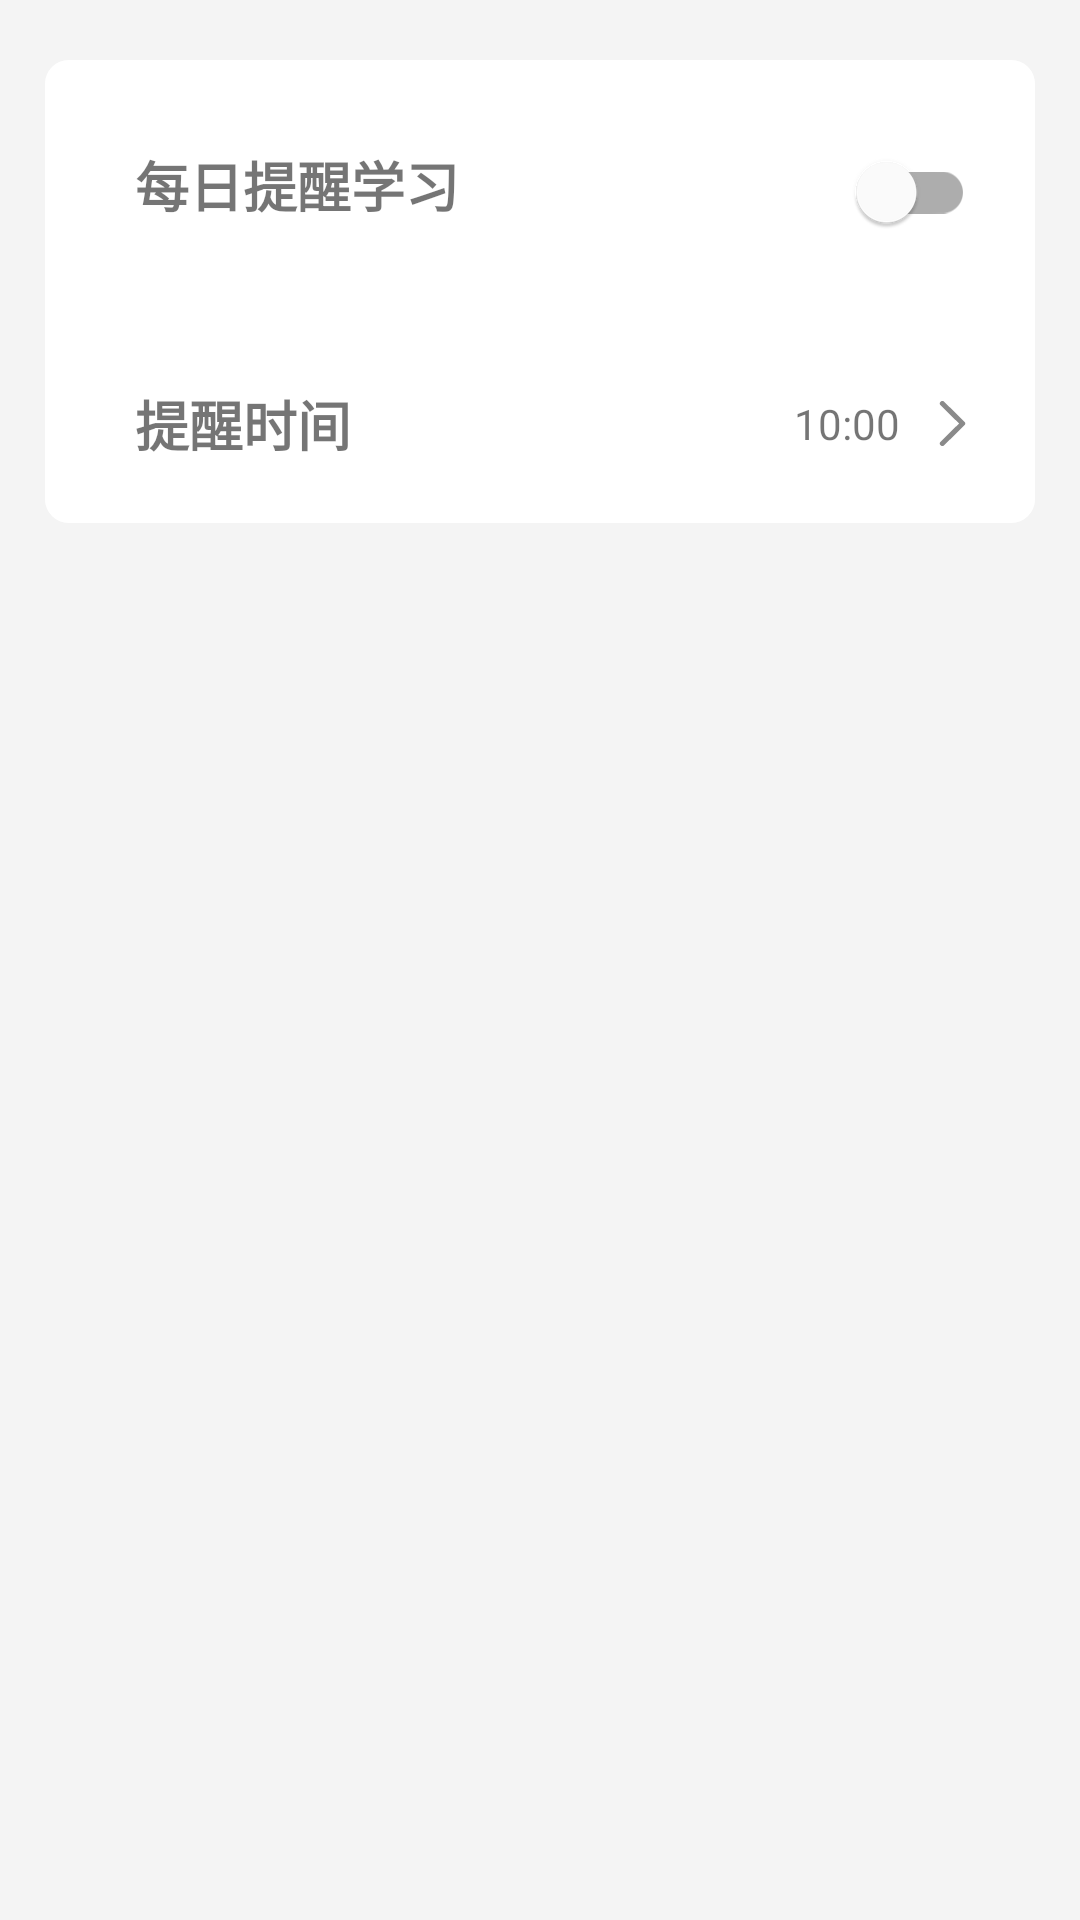

Icons on this 1080x1920 Android screen, each with the point to tap as (x,y):
user arrowright: (952,423)
